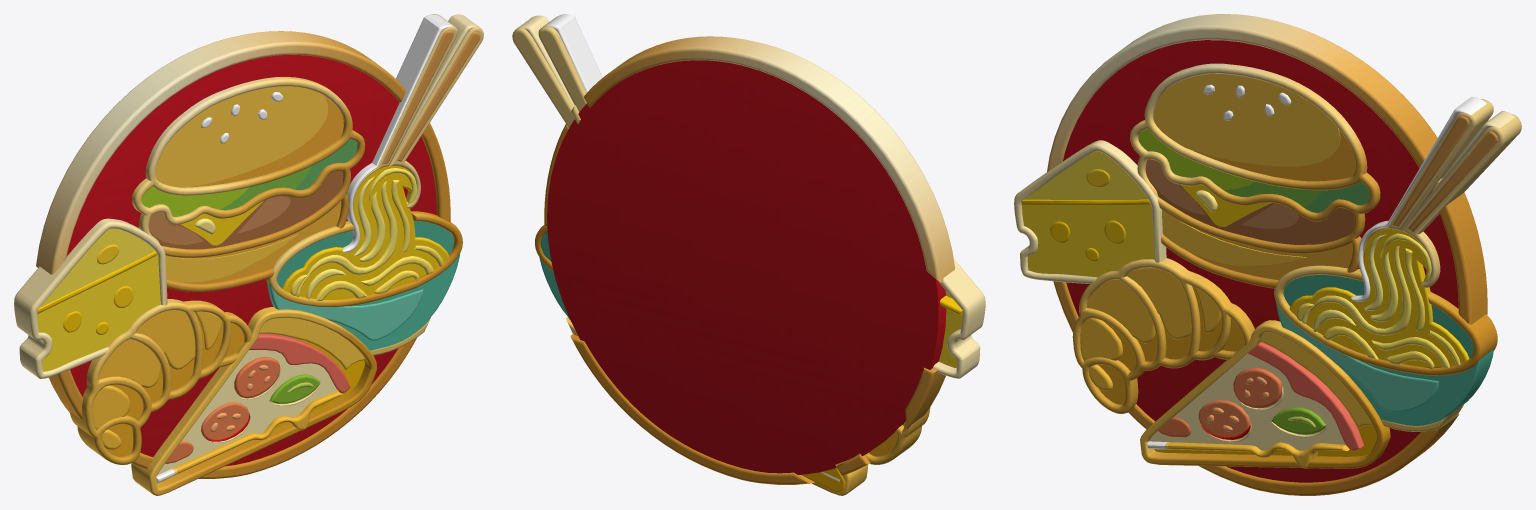
Rendered from FoodCollecter.glb.
The picture shows the model from 3 angles, left to right: view 1: azimuth 30°, elevation 25°; view 2: azimuth 150°, elevation 25°; view 3: azimuth 330°, elevation 25°; orthographic projection. The views are drawn at different scales.
Visible parts, largest first — view 1: 圆环填色, 圆环 (Stroke) (×4), Vector 202, 汉堡外环 (Stroke), Vector 192 (Stroke), 面包外框, Vector 207, Vector 246, Vector 210, 奶酪外框, Vector 214, Vector 229 (+32 smaller); view 2: 圆环填色, 圆环 (Stroke) (×3), Vector 188, 奶酪外框, Vector 187, 面包外框, Vector 190, Vector 207, Vector 211, Vector 192 (Stroke); view 3: 圆环填色, 圆环 (Stroke) (×4), Vector 202, 汉堡外环 (Stroke), 面包外框, Vector 246, Vector 207, Vector 210, Vector 192 (Stroke), Vector 214, Vector 188, 面条 (Stroke) (+35 smaller).
Boxes of the visible parts, bbox=[...] form: 圆环填色: bbox=[66, 55, 436, 466]; 圆环 (Stroke) (×4): bbox=[36, 31, 450, 478]; Vector 202: bbox=[155, 86, 328, 187]; 汉堡外环 (Stroke): bbox=[132, 77, 365, 291]; Vector 192 (Stroke): bbox=[131, 307, 377, 495]; 面包外框: bbox=[69, 299, 252, 464]; Vector 207: bbox=[37, 255, 160, 371]; Vector 246: bbox=[282, 165, 449, 299]; Vector 210: bbox=[93, 310, 222, 449]; 奶酪外框: bbox=[14, 218, 167, 378]; Vector 214: bbox=[157, 350, 338, 474]; Vector 229: bbox=[266, 282, 423, 340]; 圆环填色: bbox=[547, 60, 946, 474]; 圆环 (Stroke) (×3): bbox=[570, 36, 954, 484]; Vector 188: bbox=[512, 16, 586, 127]; 奶酪外框: bbox=[933, 259, 985, 378]; Vector 187: bbox=[545, 14, 602, 92]; 面包外框: bbox=[865, 407, 930, 464]; Vector 190: bbox=[519, 15, 574, 106]; Vector 207: bbox=[939, 308, 962, 367]; Vector 211: bbox=[802, 468, 845, 492]; Vector 192 (Stroke): bbox=[811, 464, 868, 495]; 圆环填色: bbox=[1063, 40, 1458, 482]; 圆环 (Stroke) (×4): bbox=[1047, 14, 1487, 495]; Vector 202: bbox=[1153, 73, 1340, 166]; 汉堡外环 (Stroke): bbox=[1130, 63, 1380, 288]; 面包外框: bbox=[1072, 258, 1254, 413]; Vector 246: bbox=[1289, 229, 1469, 367]; Vector 207: bbox=[1022, 204, 1154, 277]; Vector 210: bbox=[1080, 268, 1221, 390]; Vector 192 (Stroke): bbox=[1140, 320, 1390, 468]; Vector 214: bbox=[1149, 353, 1347, 450]; Vector 188: bbox=[1362, 99, 1521, 287]; 面条 (Stroke): bbox=[1274, 265, 1497, 375].
Size of the model in its own units: 25.03 by 22.41 by 2.2.
82 materials, 11 textured.
